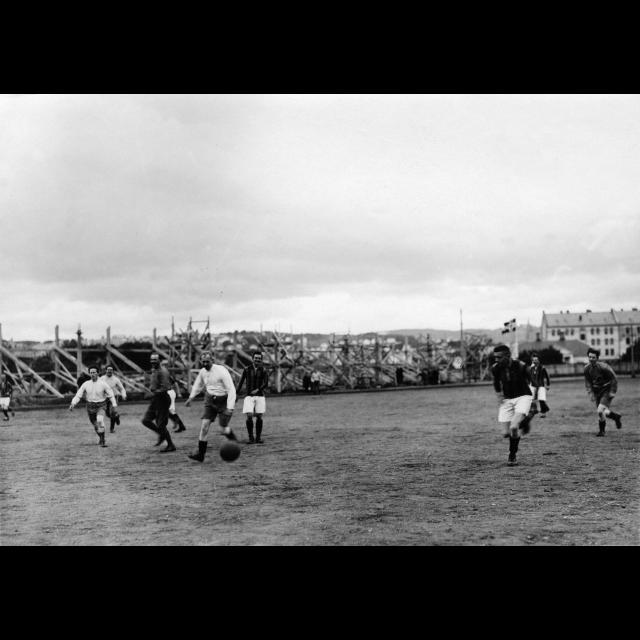Football: (218, 441, 240, 462)
